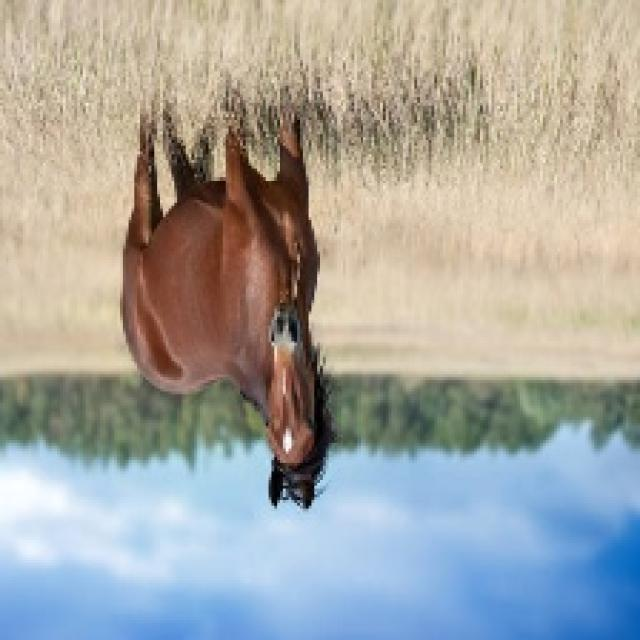bear: (94, 61, 439, 532)
